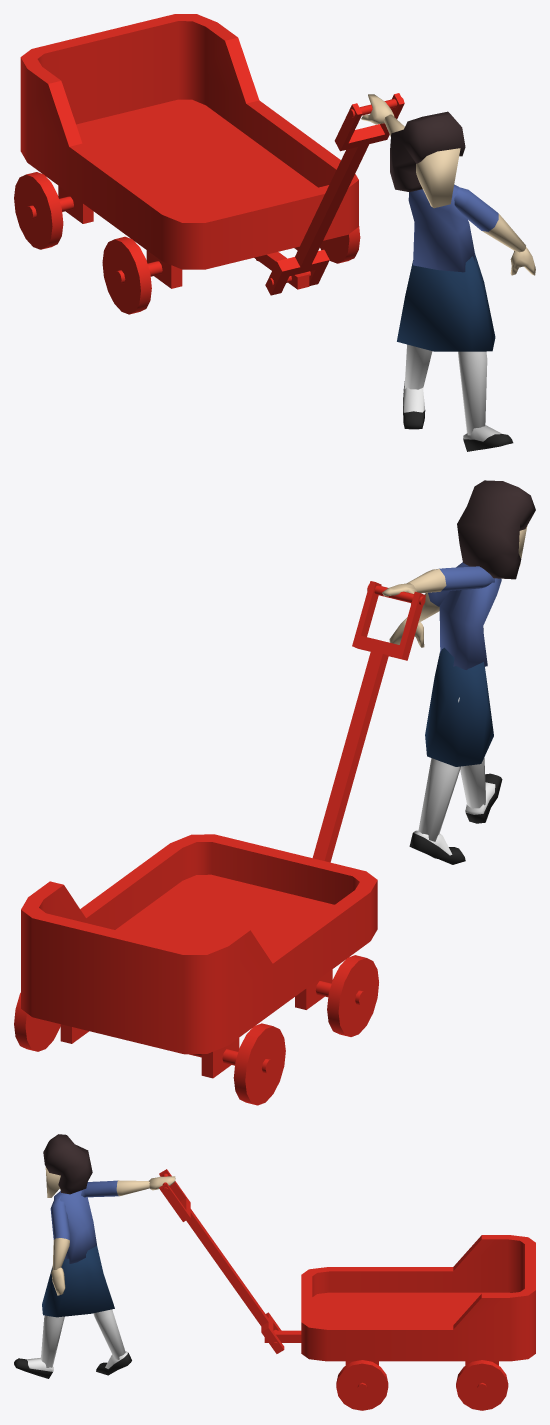
Rendered from mesh_KitchenWagon.fbx.
The picture shows the model from 3 angles, top to bottom: view 1: azimuth 30°, elevation 25°; view 2: azimuth 150°, elevation 25°; view 3: azimuth 270°, elevation 25°; orthographic projection. The views are drawn at different scales.
Parts seen in each view (by area): view 1: WagonBod; view 2: WagonBod; view 3: WagonBod.
Part boxes in pixels (left/top/right/bottom): WagonBod: left=14, top=14, right=535, bottom=451; WagonBod: left=14, top=480, right=535, bottom=1105; WagonBod: left=14, top=1134, right=535, bottom=1410.
Bounding box in the file's own units: 48.2 × 68.82 × 142.
